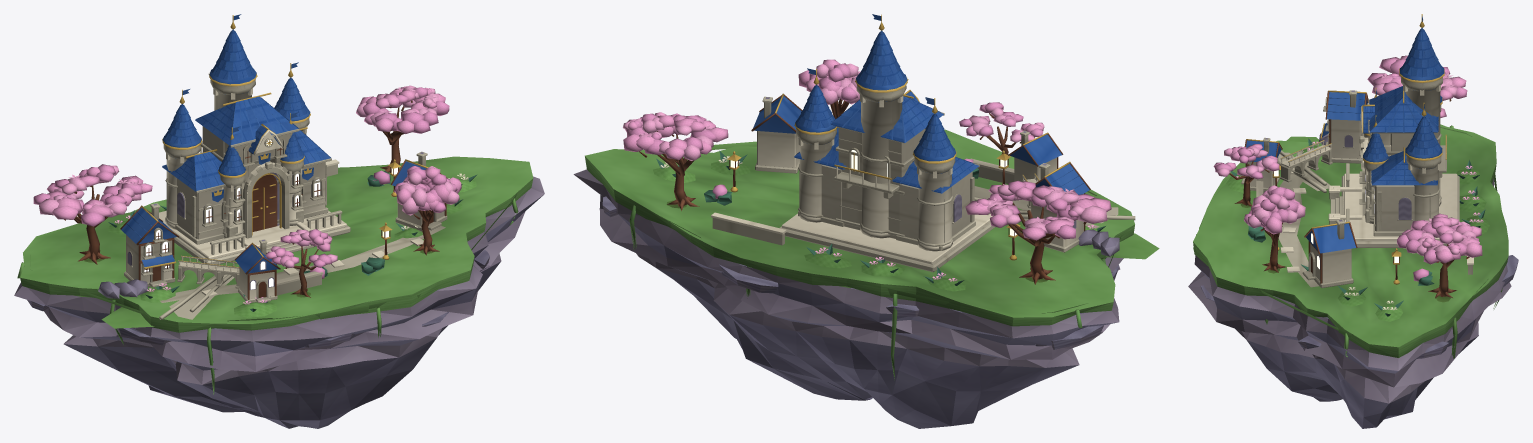
Rendered from royal-island-left-final-v1-balanced.glb.
The picture shows the model from 3 angles, left to right: view 1: azimuth 30°, elevation 25°; view 2: azimuth 150°, elevation 25°; view 3: azimuth 270°, elevation 25°; orthographic projection. The views are drawn at different scales.
Visible parts, largest first — view 1: royal-island-left-final-v1; view 2: royal-island-left-final-v1; view 3: royal-island-left-final-v1.
Boxes of the visible parts, x1,y1,x2,y2 form: royal-island-left-final-v1: [14, 14, 544, 428]; royal-island-left-final-v1: [573, 14, 1159, 428]; royal-island-left-final-v1: [1188, 14, 1518, 428].
Bounding box in the file's own units: 20.86 × 14.88 × 12.09.
Materials: 10 (10 with a texture image).
